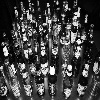beer: (46, 18, 53, 38)
